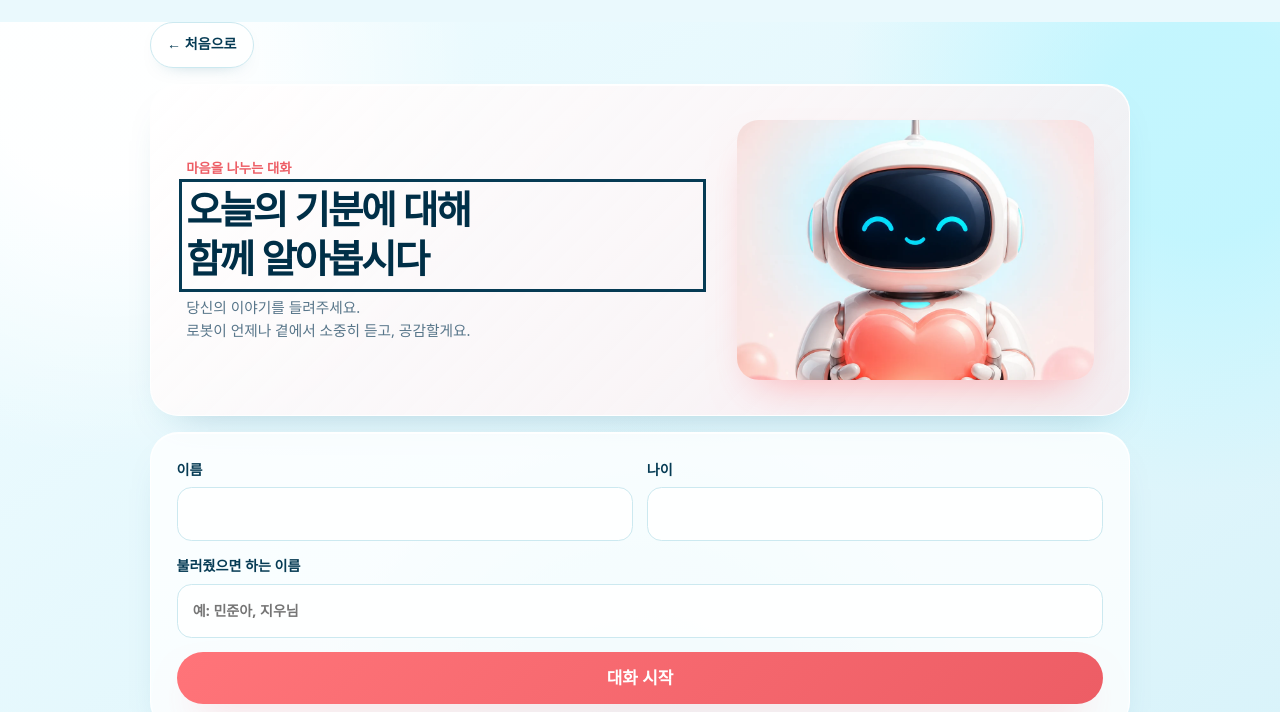
Test case: EmotionFlow › 잘못된 나이 프로필을 거부하고 첫 오류 필드에 초점을 둔다
The width and height of the screenshot is (1280, 712).
In the field labelled "이름": (405, 514) [177,488,633,542], type "민준"
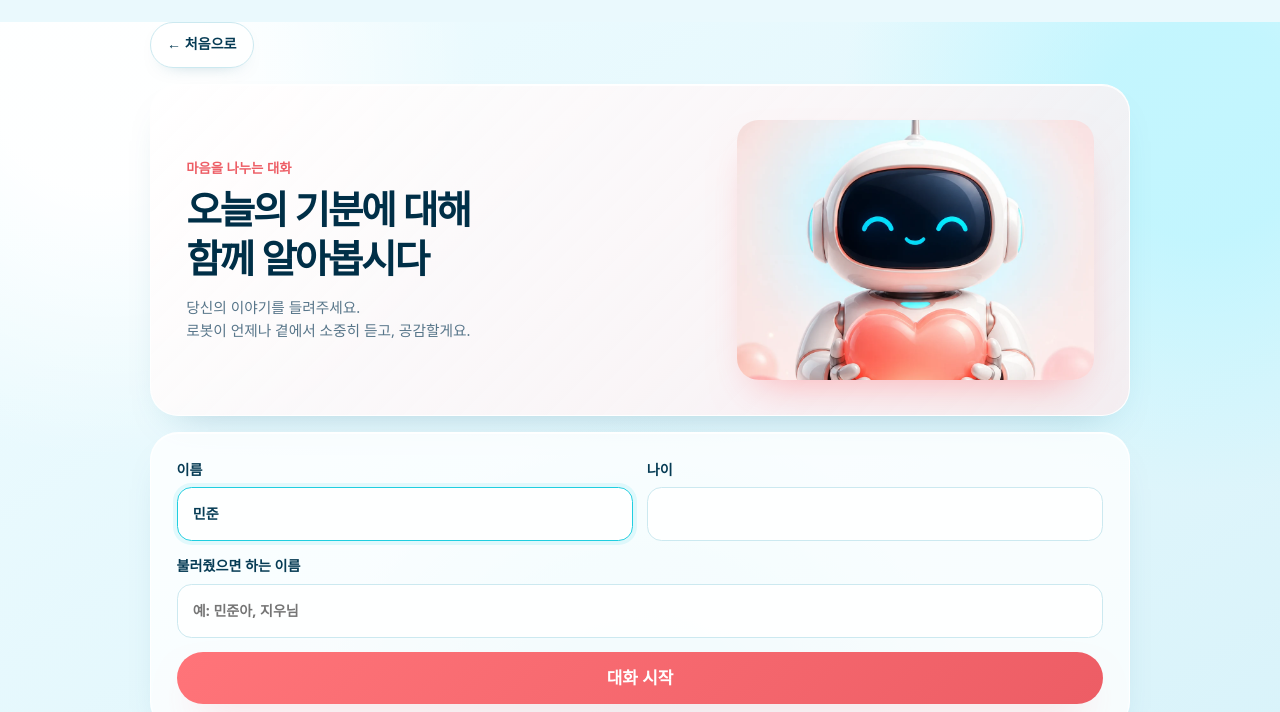
In the number field labelled "나이": (875, 514) [647,488,1103,542], type "3"
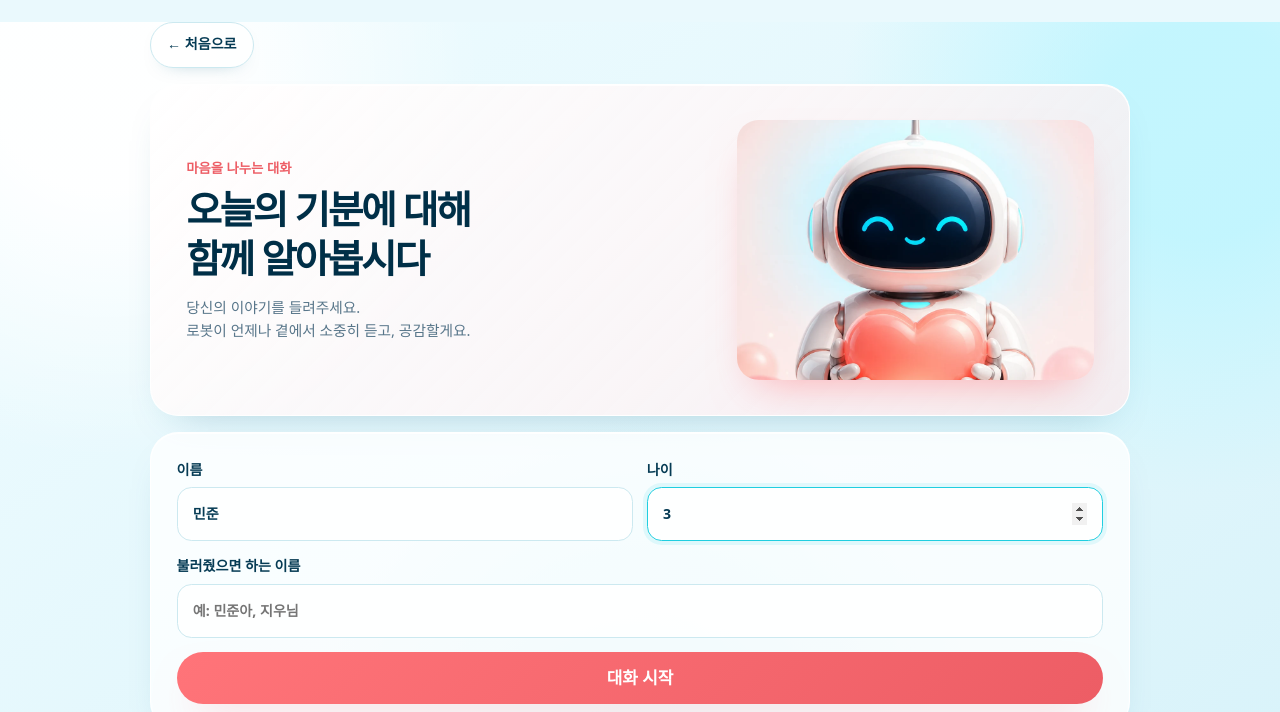
In the field labelled "불러줬으면 하는 이름": (640, 611) [177,584,1103,638], type "민준아"
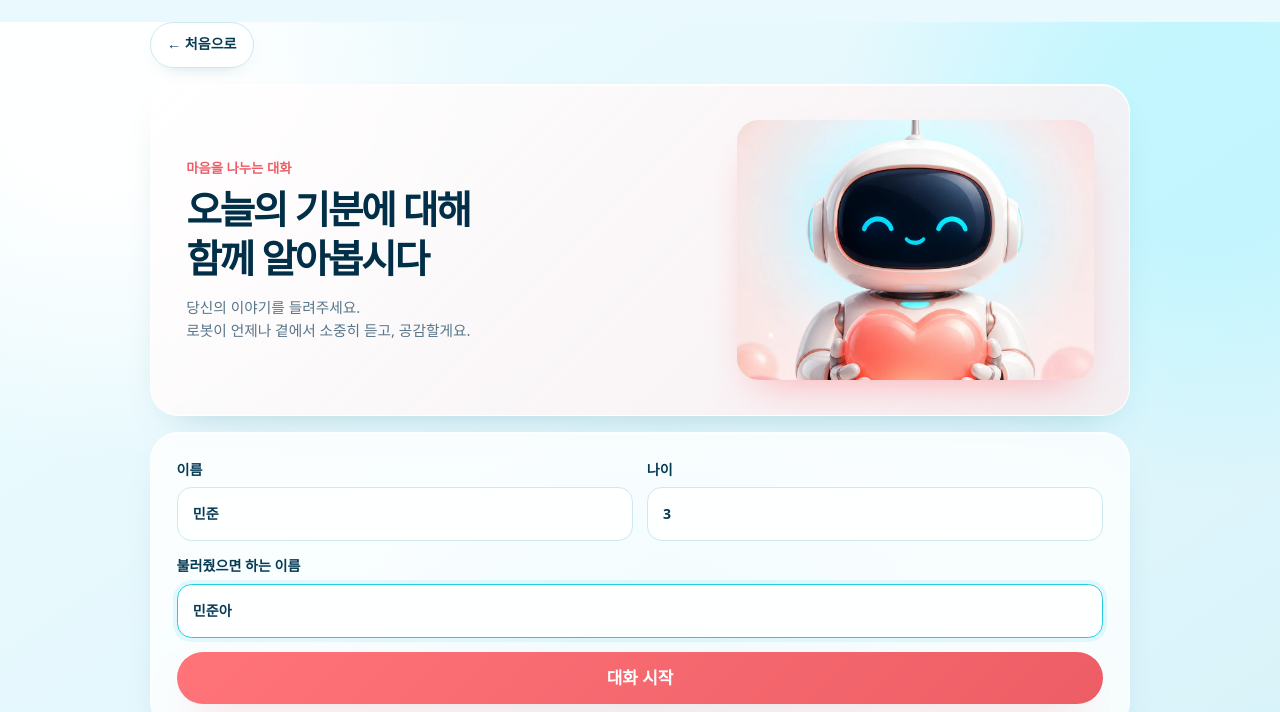
Click the button "대화 시작": (640, 678) [177,652,1103,704]
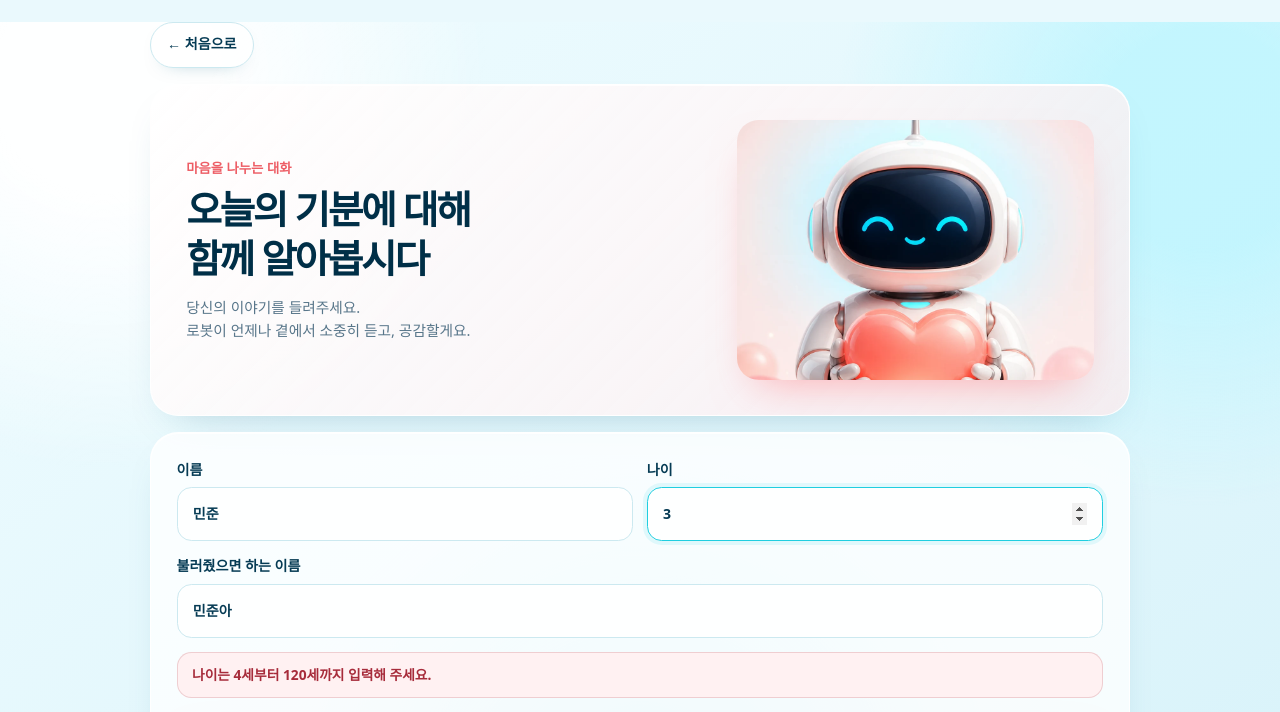
Expected: the heading "오늘의 기분" is shown, [186,189,470,281]
Result: the message reads "나이는 4세부터 120세까지 입력해 주세요." at [192,665,431,684]
